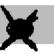not correct: (0, 4, 39, 53)
